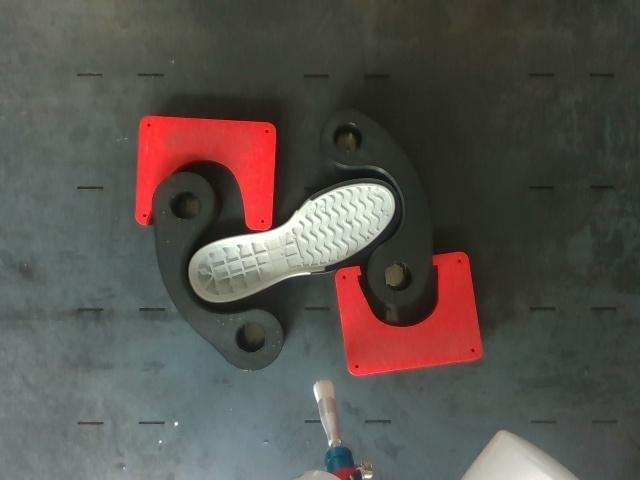shoes: (190, 180, 400, 303)
